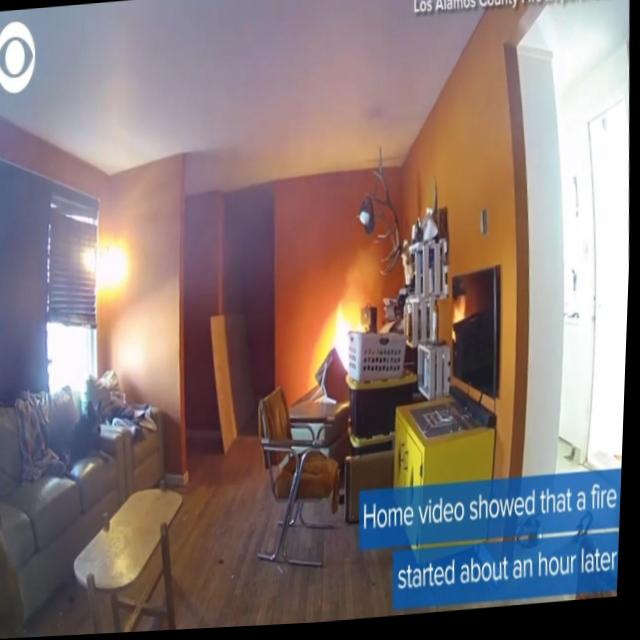fire: (321, 295, 365, 379)
